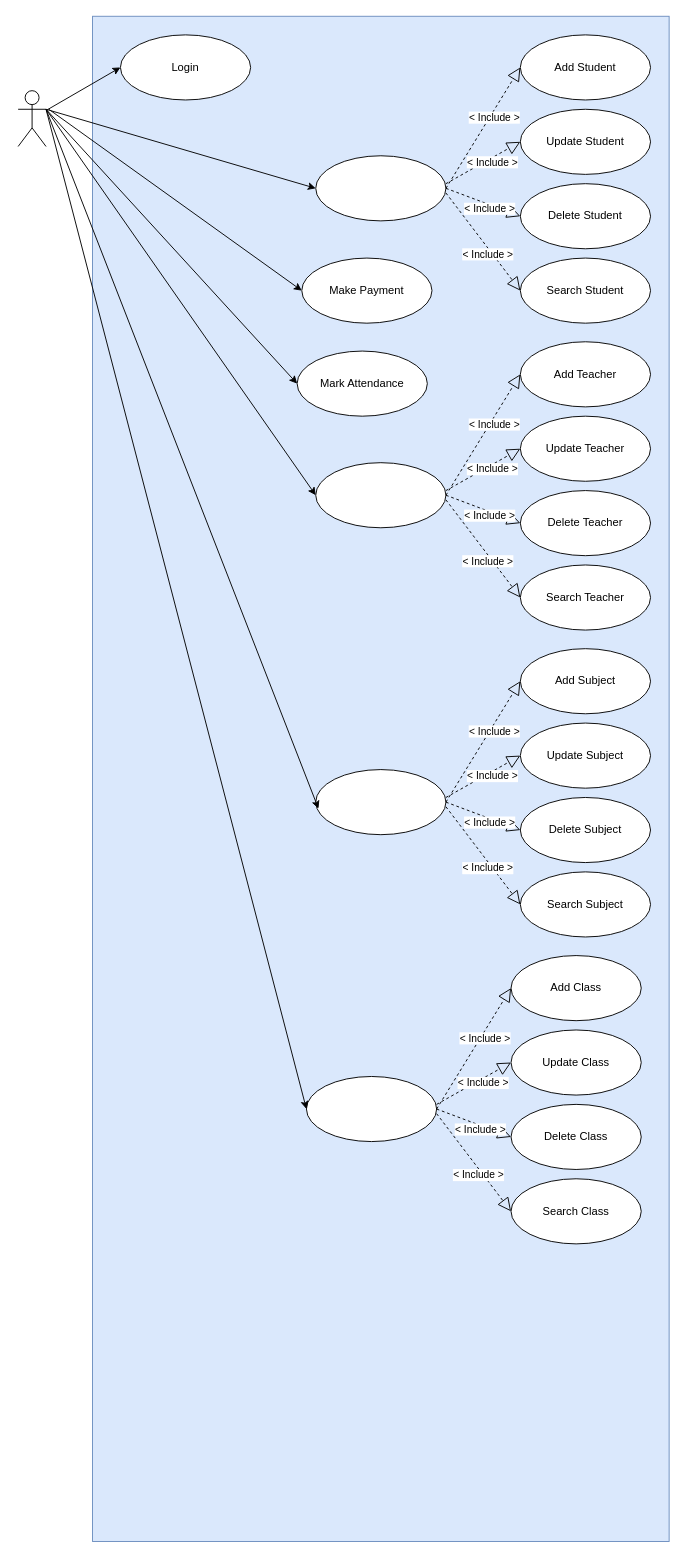
Image size: 685x1558. Some labels were removed from this diagram. Here are the shapes that lost their labels. From the top down, the centre of each, then its label:
(31,118): Admin
(380,188): Manage Students
(380,495): Manage Teacher
(380,802): Manage Subject
(371,1109): Manage Class
